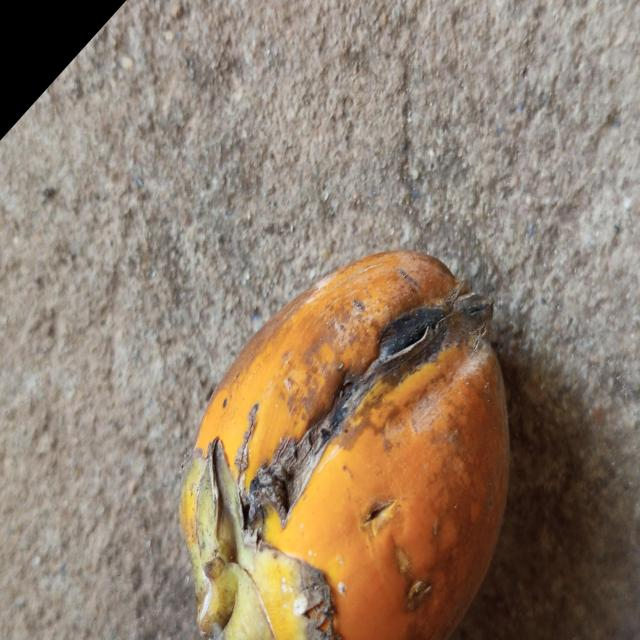damaged: (179, 251, 510, 640)
